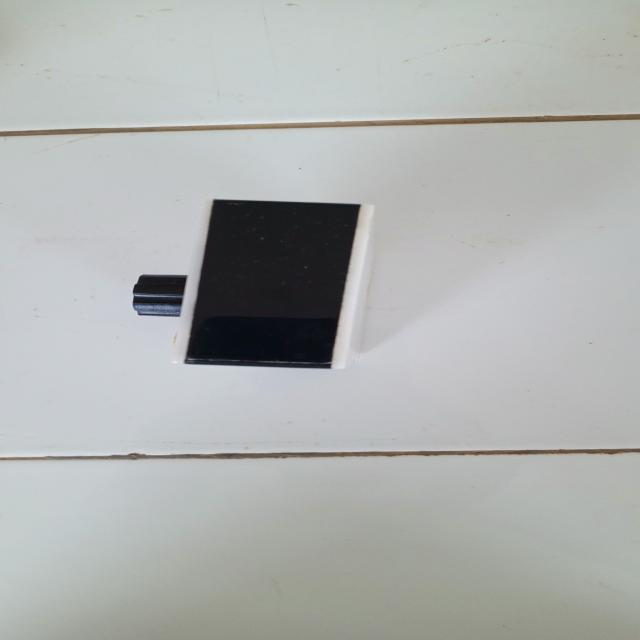Set of Resistances: (109, 182, 408, 384)
